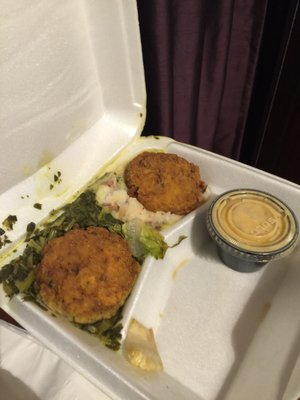sushi: (206, 188, 299, 273)
